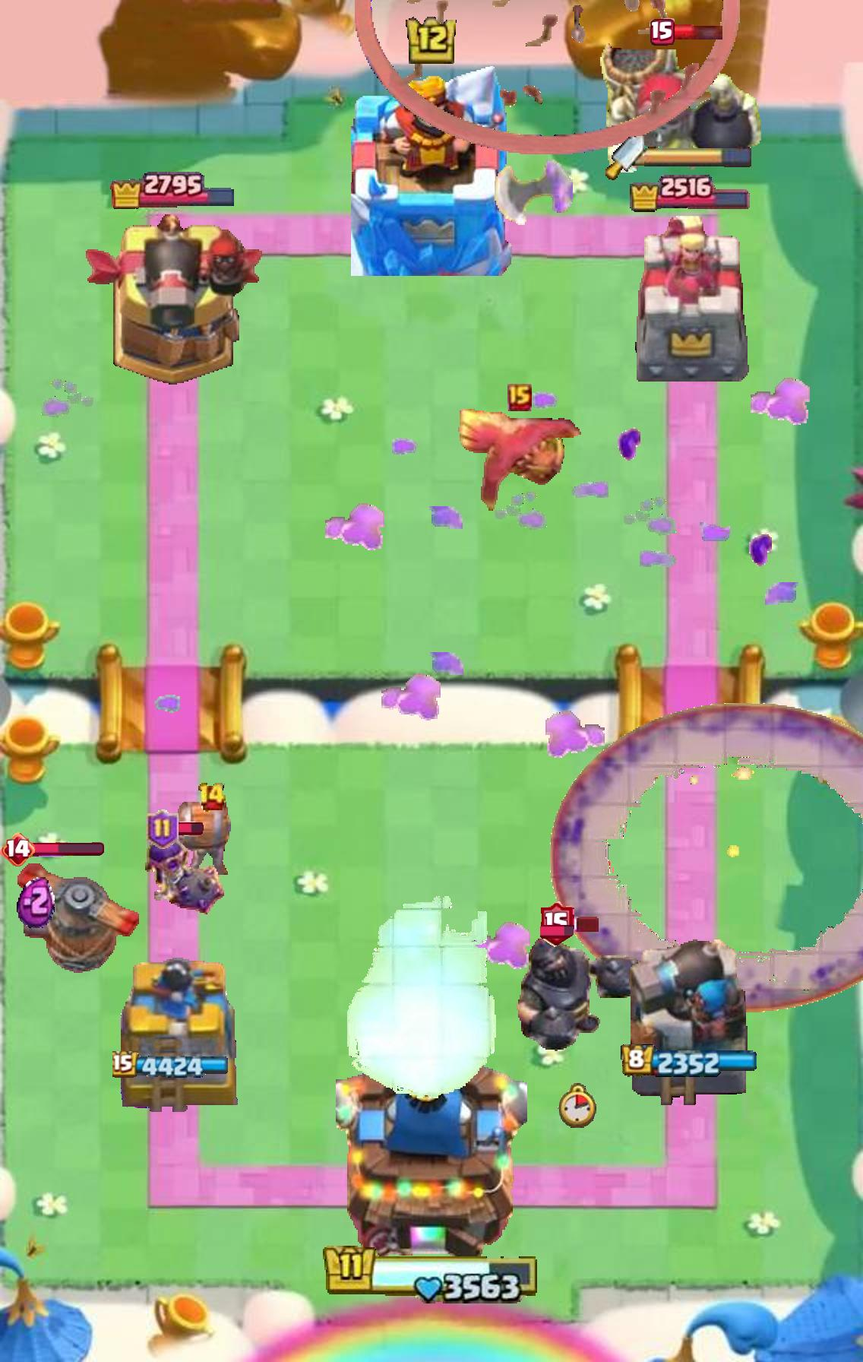bar: (670, 22, 723, 42), (30, 843, 104, 857), (571, 916, 601, 933), (175, 822, 204, 837)
bar-level: (541, 901, 575, 947), (147, 809, 179, 849), (0, 833, 36, 867), (198, 782, 226, 812), (650, 18, 675, 46), (507, 384, 532, 411)
